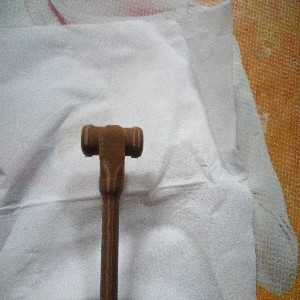palu: (80, 123, 144, 300)
